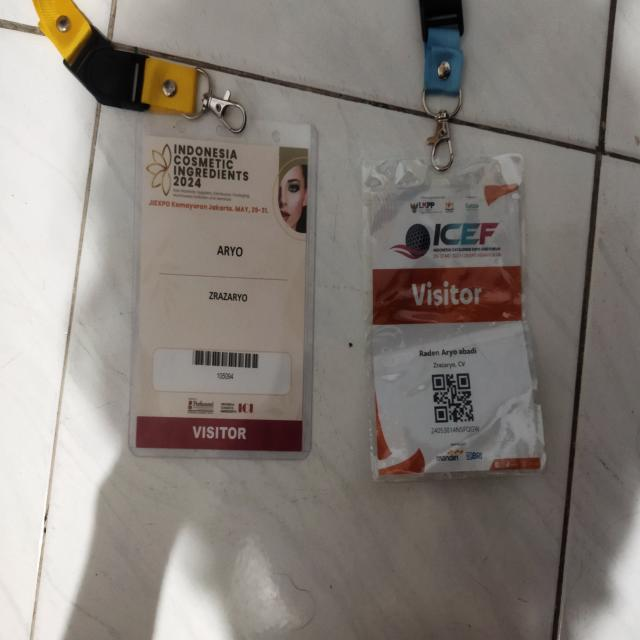ID_card: (127, 121, 315, 459), (361, 152, 547, 483)
